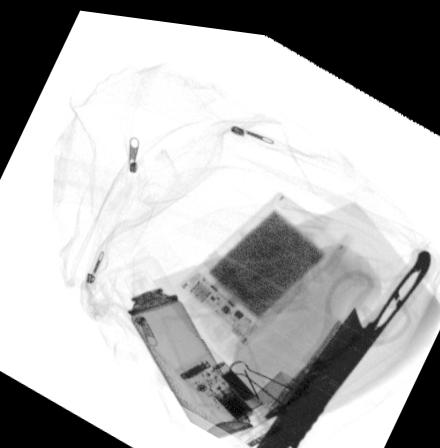Knife: (248, 234, 438, 448)
Powerbank: (173, 181, 345, 340)
Scissors: (262, 257, 411, 418)
Sprayer: (103, 249, 253, 436)
